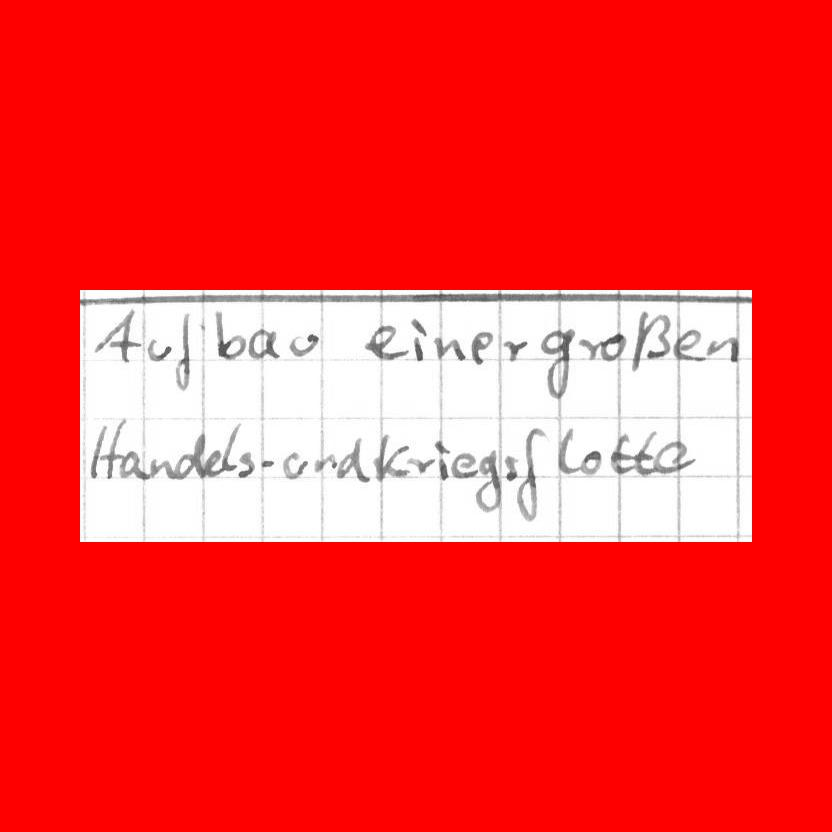Char: (73, 285, 758, 309), (514, 423, 548, 521), (628, 305, 671, 378), (535, 326, 576, 401), (92, 304, 142, 364), (83, 414, 127, 482), (170, 305, 199, 394), (211, 303, 248, 363), (334, 429, 374, 483), (372, 429, 409, 484), (473, 444, 500, 516), (365, 320, 406, 362), (553, 420, 582, 478), (173, 434, 206, 484), (652, 436, 696, 473), (671, 325, 707, 365), (632, 427, 660, 478), (246, 325, 284, 362), (448, 447, 482, 484), (706, 332, 745, 364), (608, 429, 634, 477), (220, 420, 241, 479), (286, 329, 320, 363), (279, 446, 310, 483), (117, 448, 148, 483), (432, 333, 468, 363), (467, 329, 495, 367), (409, 312, 429, 365), (499, 331, 530, 365), (200, 443, 225, 481), (600, 332, 628, 365), (576, 443, 602, 478), (145, 334, 174, 364), (150, 451, 177, 481), (402, 452, 435, 476), (433, 437, 450, 481), (577, 333, 603, 361), (233, 447, 254, 481), (312, 450, 339, 476), (502, 450, 519, 485), (260, 454, 277, 474)
